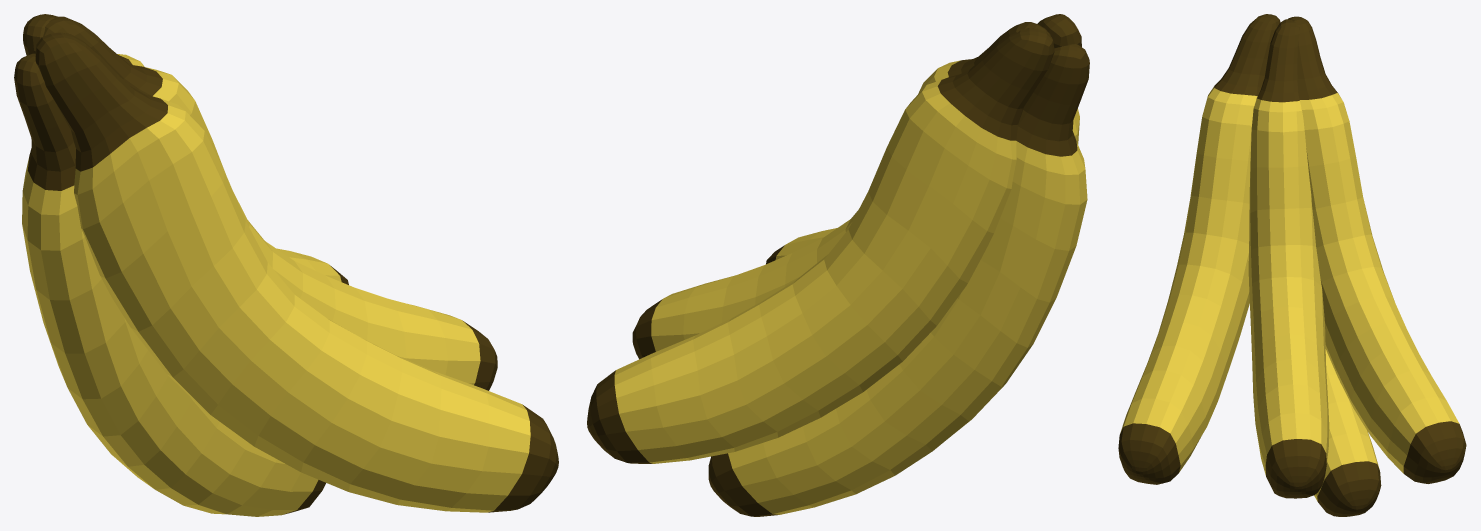
The model's file is BANAAAAANmesh.fbx.
The picture shows the model from 3 angles, left to right: view 1: azimuth 30°, elevation 25°; view 2: azimuth 150°, elevation 25°; view 3: azimuth 270°, elevation 25°; orthographic projection. The views are drawn at different scales.
Visible parts, largest first — view 1: Banana; view 2: Banana; view 3: Banana.
Part boxes in pixels (box(x1,y1,x2,y2)): Banana: box(14, 14, 558, 516); Banana: box(587, 14, 1089, 516); Banana: box(1118, 14, 1466, 516).
Bounding box in the file's own units: 567 × 646 × 506.
